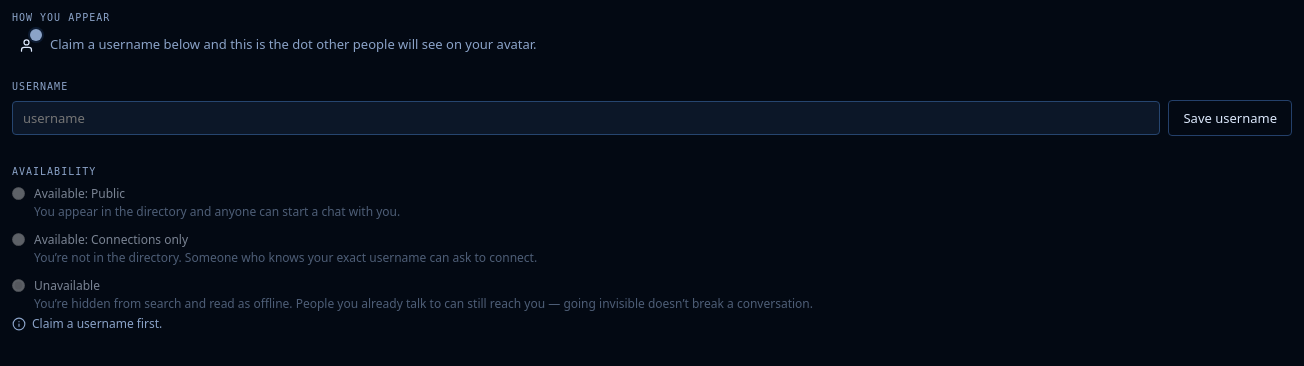
Test: SettingsChatPane — claiming a username › a non-ASCII name is refused locally with its OWN remedy, and stays off the network
Type "аdalovelace" into the field with test id "chat-username-input" at (586, 118), box [12,101,1160,135]
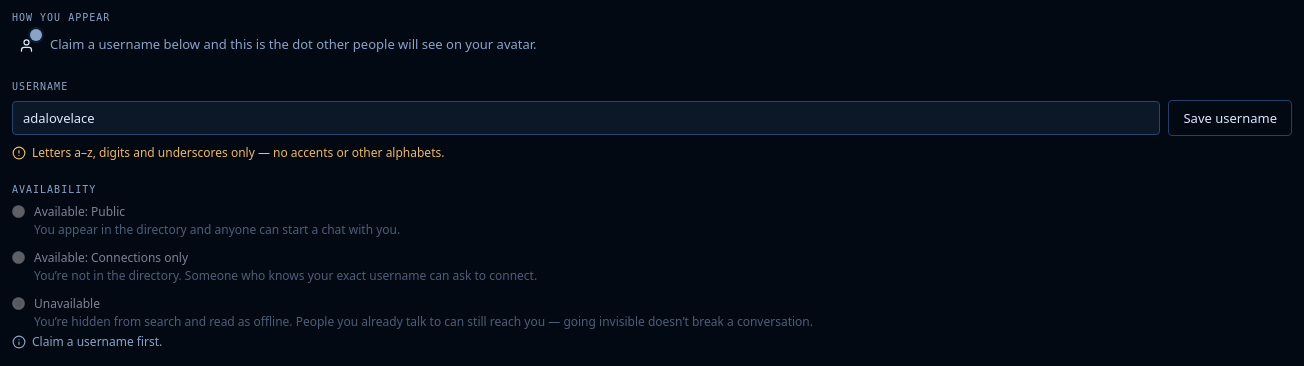
Expected: the element with test id "chat-username-check" shows "no accents", [32,144,444,161]
